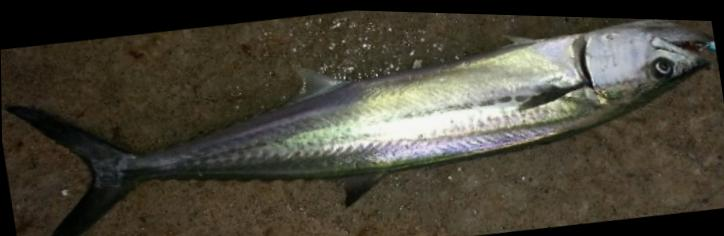fish: (9, 16, 715, 236)
